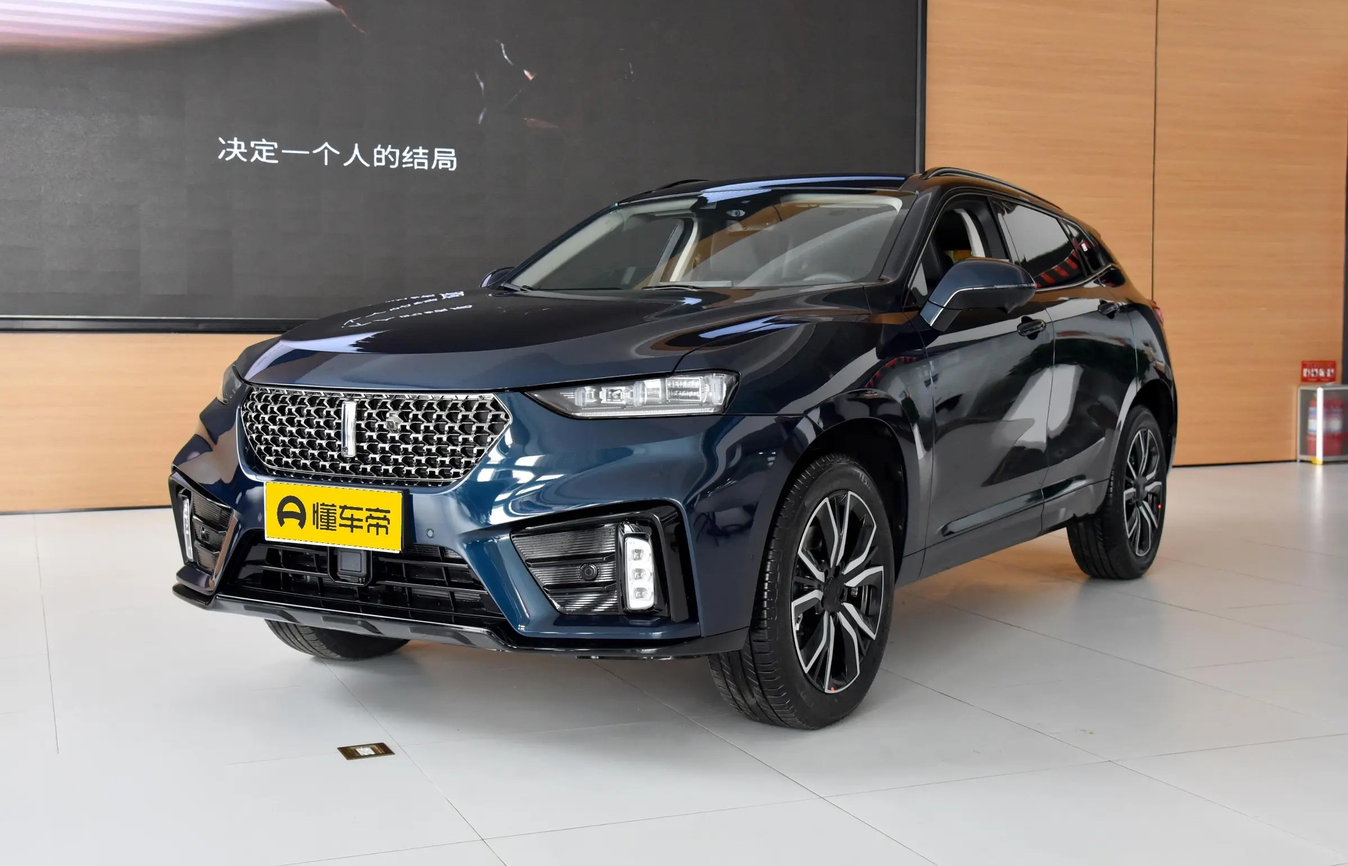WEY: (341, 402, 356, 457)
